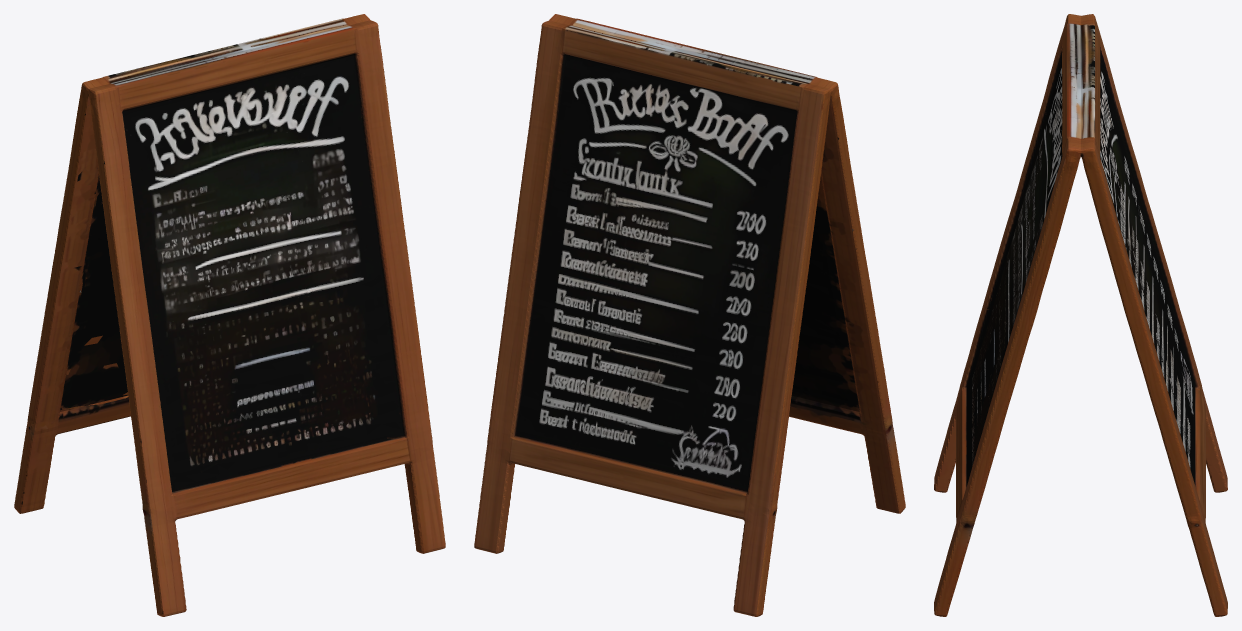
The model's file is cafe-menu.glb.
The picture shows the model from 3 angles, left to right: view 1: azimuth 30°, elevation 25°; view 2: azimuth 150°, elevation 25°; view 3: azimuth 270°, elevation 25°; orthographic projection.
Visible parts, largest first — view 1: textured; view 2: textured; view 3: textured.
Boxes of the visible parts, box(x1,y1,x2,y2) form: textured: box(14, 14, 445, 616); textured: box(474, 14, 905, 616); textured: box(934, 14, 1227, 616).
Size of the model in its own units: 1.25 by 1.99 by 1.13.
1 material, 1 textured.
